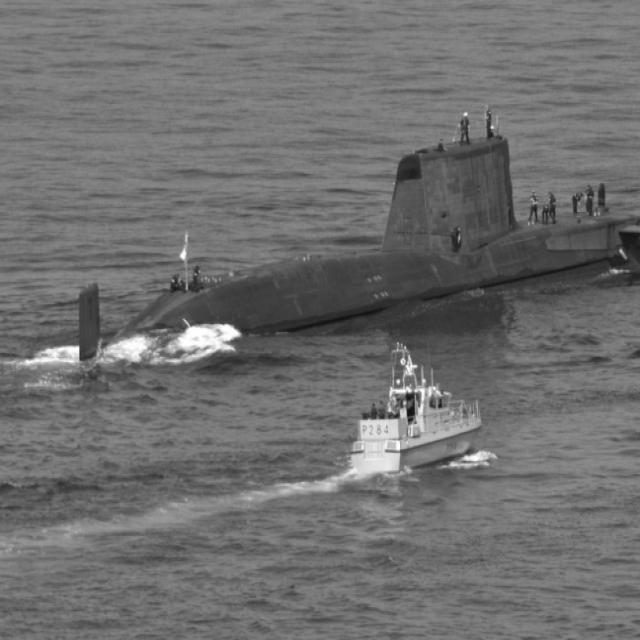submarine: (73, 133, 640, 361)
